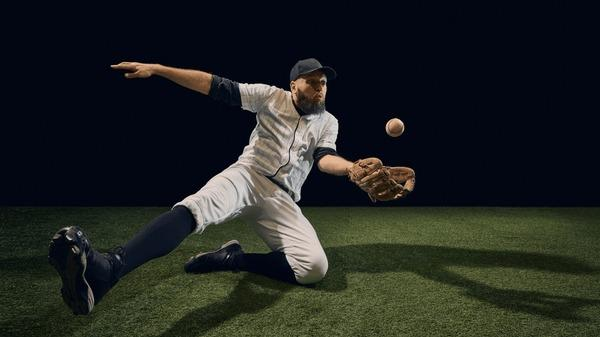baseball: (385, 118, 407, 137)
